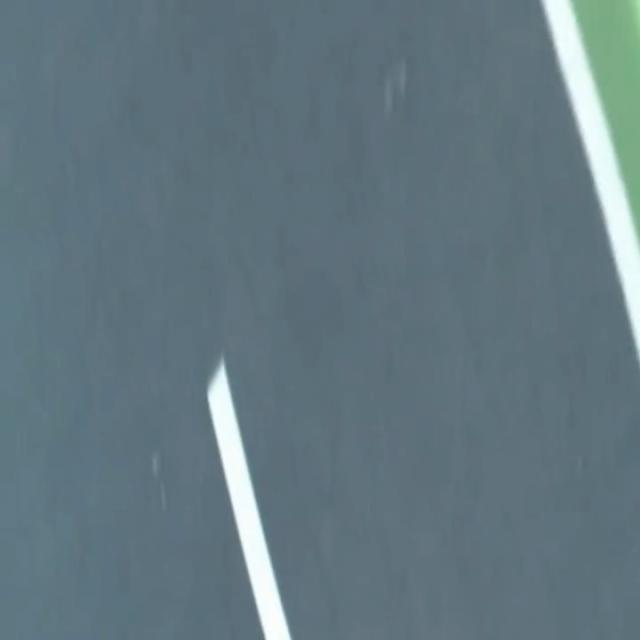center: (208, 358, 291, 639)
